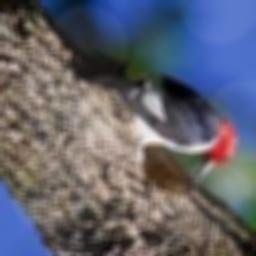Woodpecker: (69, 40, 236, 185)
